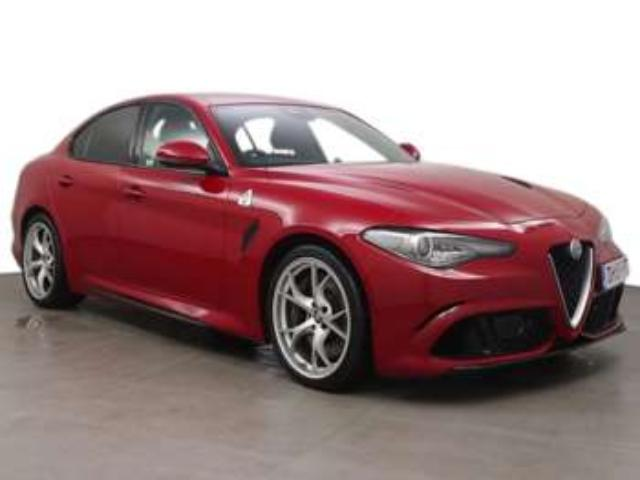alpha-romeo: (11, 92, 631, 392)
